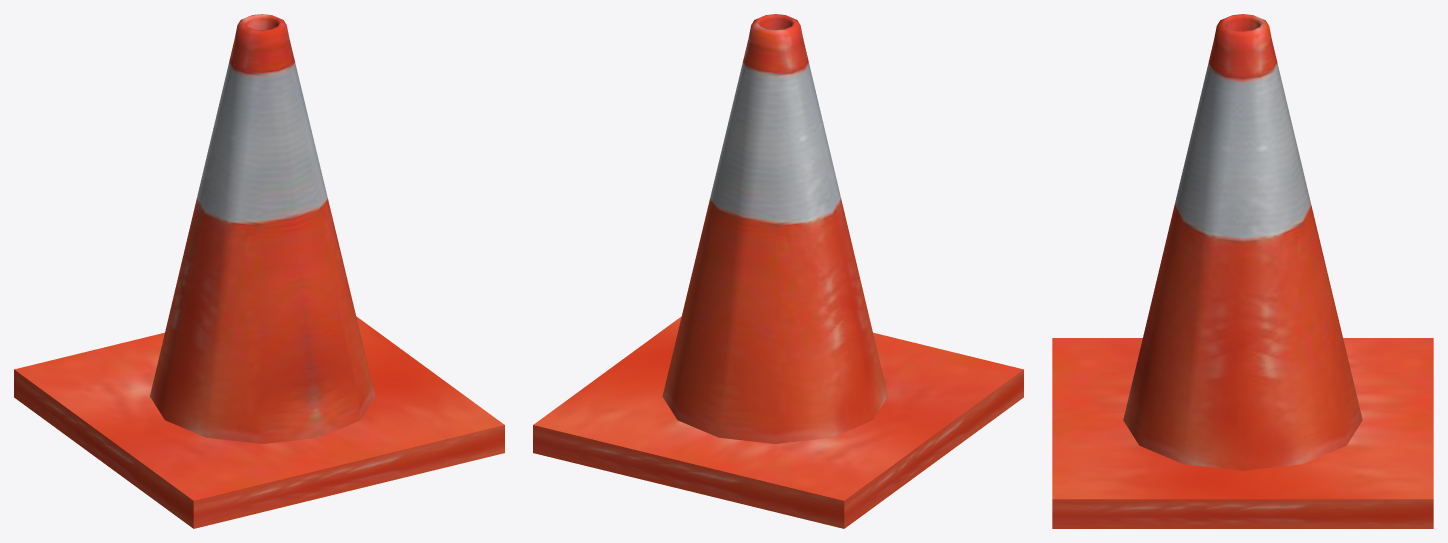
File: orangepylonB.fbx
The picture shows the model from 3 angles, left to right: view 1: azimuth 30°, elevation 25°; view 2: azimuth 150°, elevation 25°; view 3: azimuth 270°, elevation 25°; orthographic projection. The views are drawn at different scales.
Visible parts, largest first — view 1: ChamferTube01, Box01; view 2: ChamferTube01, Box01; view 3: ChamferTube01, Box01.
Boxes of the visible parts, x1,y1,x2,y2 form: ChamferTube01: (150,14,375,443); Box01: (14,316,504,528); ChamferTube01: (662,14,887,443); Box01: (533,316,1023,528); ChamferTube01: (1123,14,1362,470); Box01: (1052,338,1433,528).
Size of the model in its own units: 35.43 by 43.76 by 35.43.
